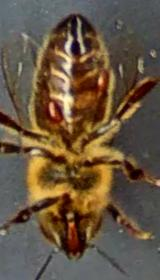varroa_mite: (86, 56, 115, 101), (38, 90, 64, 130)
